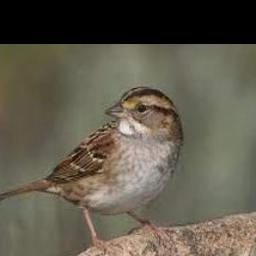Sparrow: (0, 87, 183, 254)
